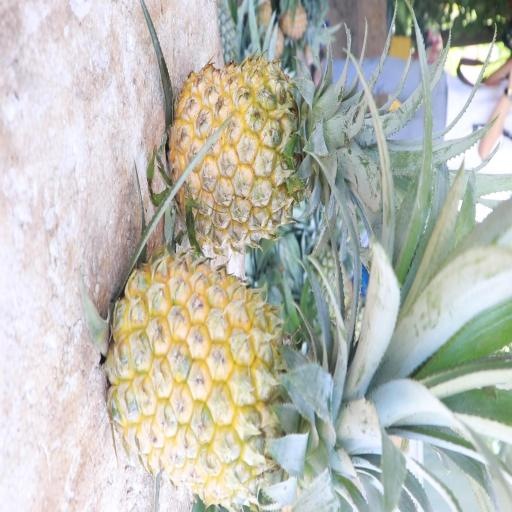Pineapple - v8 v1: (102, 249, 388, 500), (164, 53, 362, 256), (216, 154, 226, 158), (223, 112, 232, 112)
